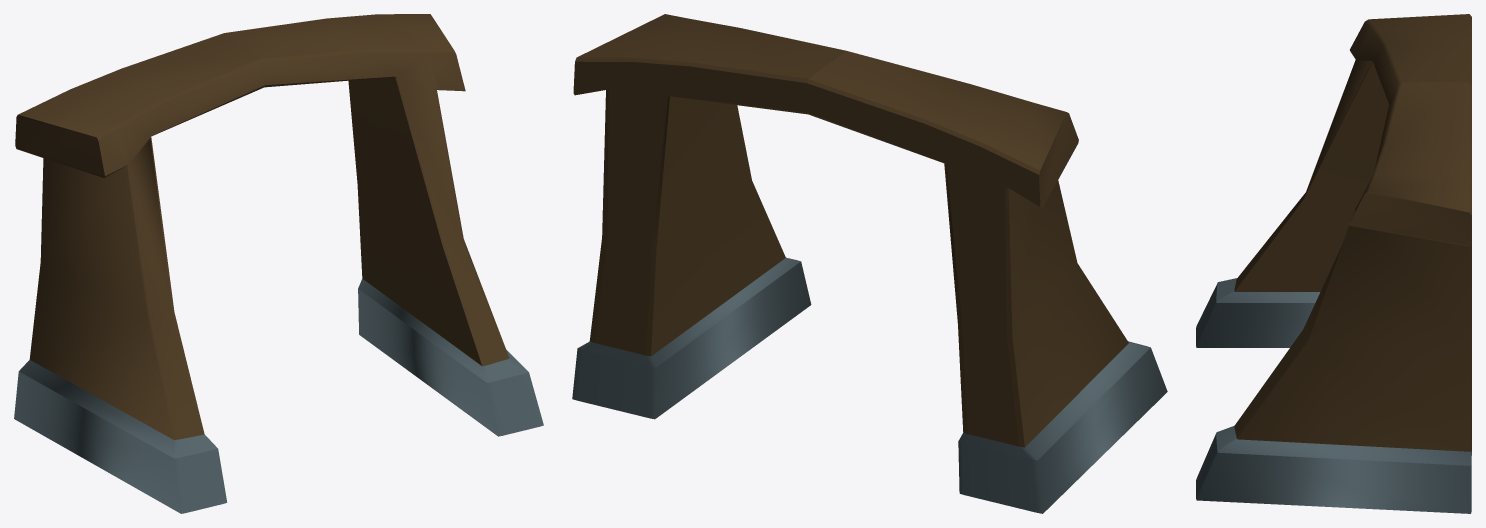
File: blockUnBlock.FBX
3 renders of one model, left to right at view 1: azimuth 30°, elevation 25°; view 2: azimuth 150°, elevation 25°; view 3: azimuth 270°, elevation 25°, orthographic. The views are drawn at different scales.
Visible parts, largest first — view 1: Box004; view 2: Box004; view 3: Box004.
Boxes of the visible parts, left/top/right/bottom form: Box004: left=14, top=14, right=543, bottom=513; Box004: left=572, top=14, right=1167, bottom=513; Box004: left=1196, top=14, right=1471, bottom=513.
Size of the model in its own units: 135 by 77.98 by 103.
